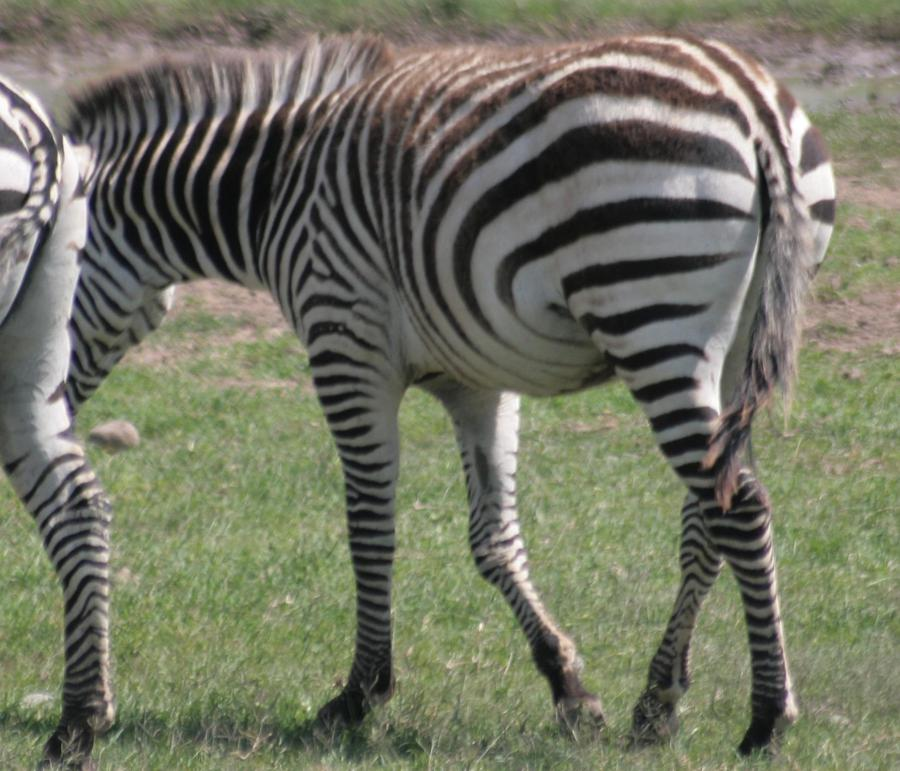zebra_plains: (252, 31, 739, 426)
